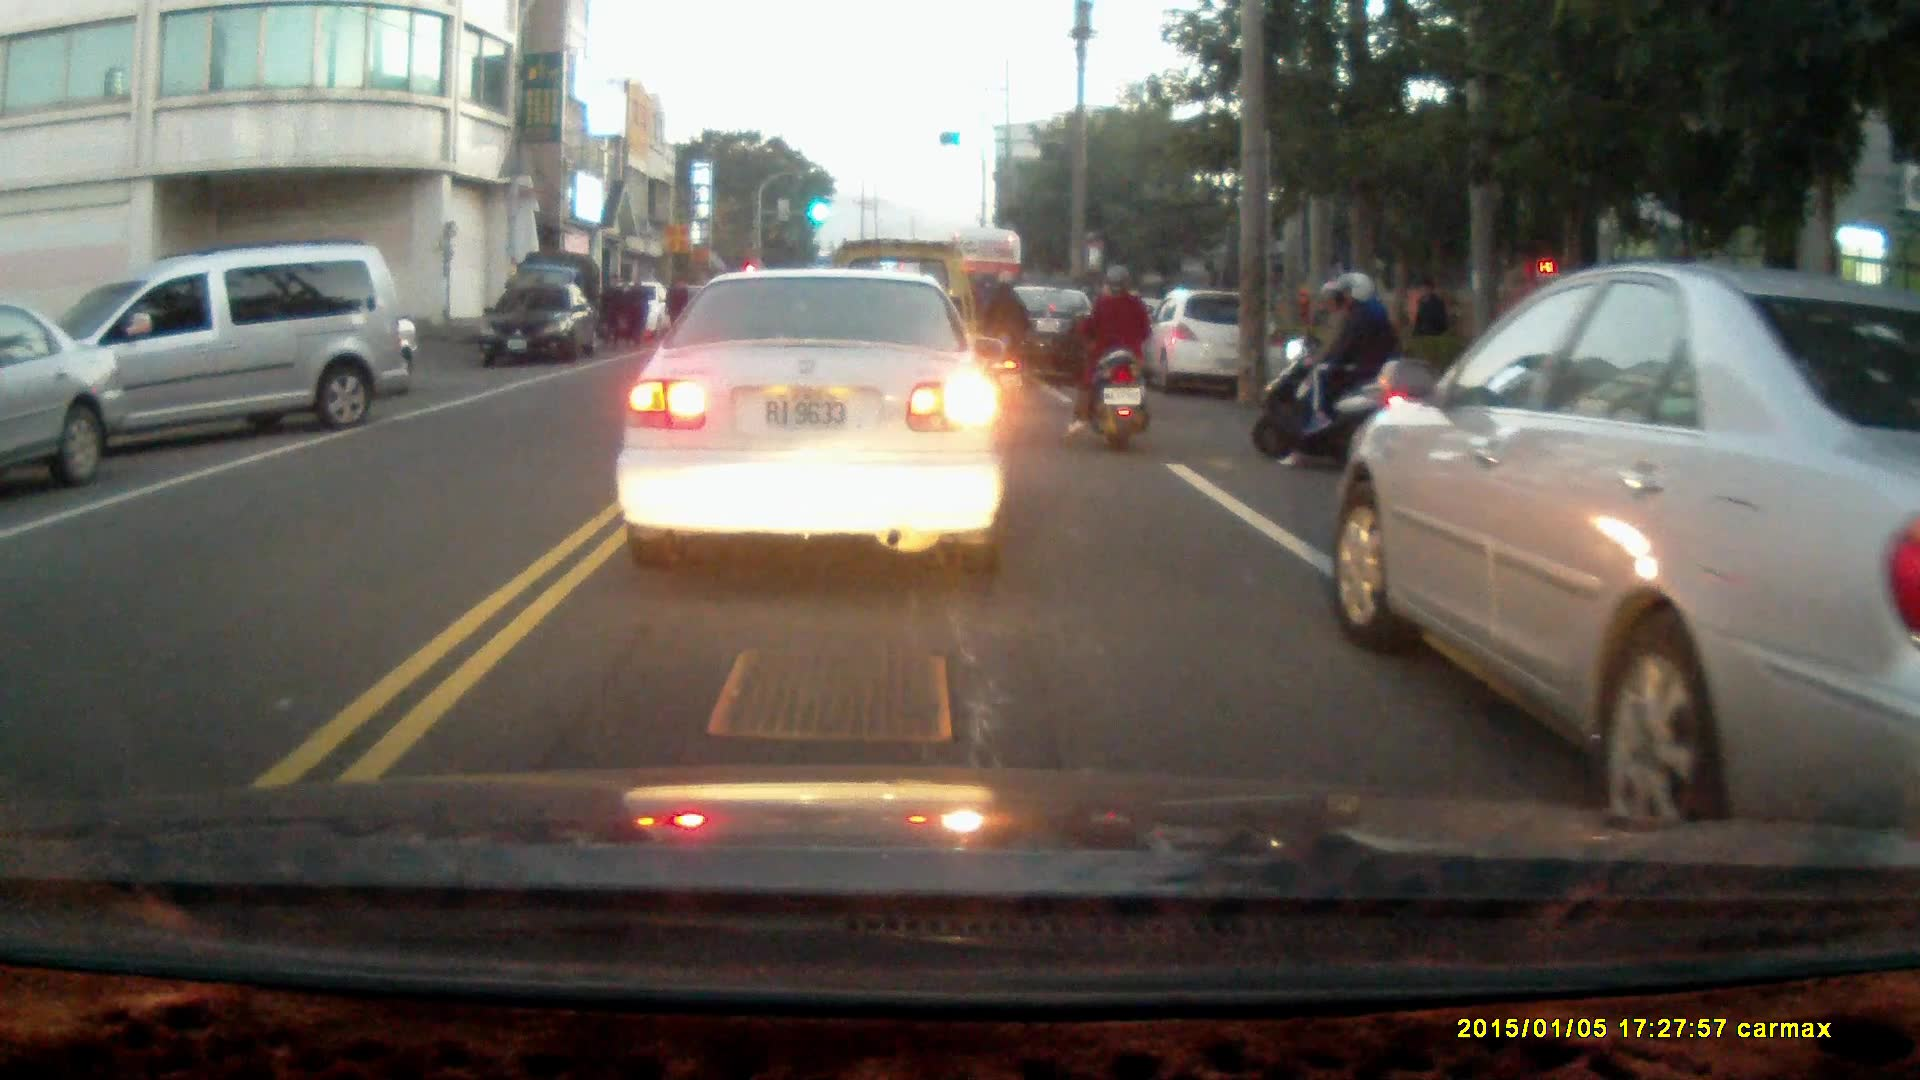pedestrian: (1409, 275, 1445, 365), (598, 272, 627, 352), (620, 272, 647, 351), (663, 274, 691, 343)
rider: (1251, 267, 1405, 469), (1057, 262, 1153, 449), (965, 270, 1029, 395)
vehicle: (1333, 257, 1920, 829), (625, 269, 1011, 584), (28, 247, 402, 462), (1, 302, 126, 489), (1140, 291, 1279, 398), (973, 286, 1113, 388), (485, 280, 604, 367)
